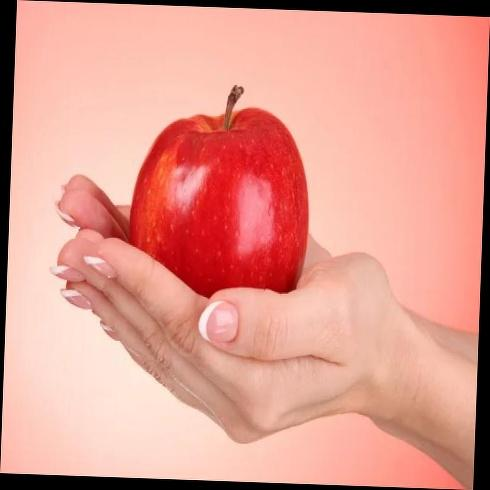red apple: (126, 97, 319, 301)
